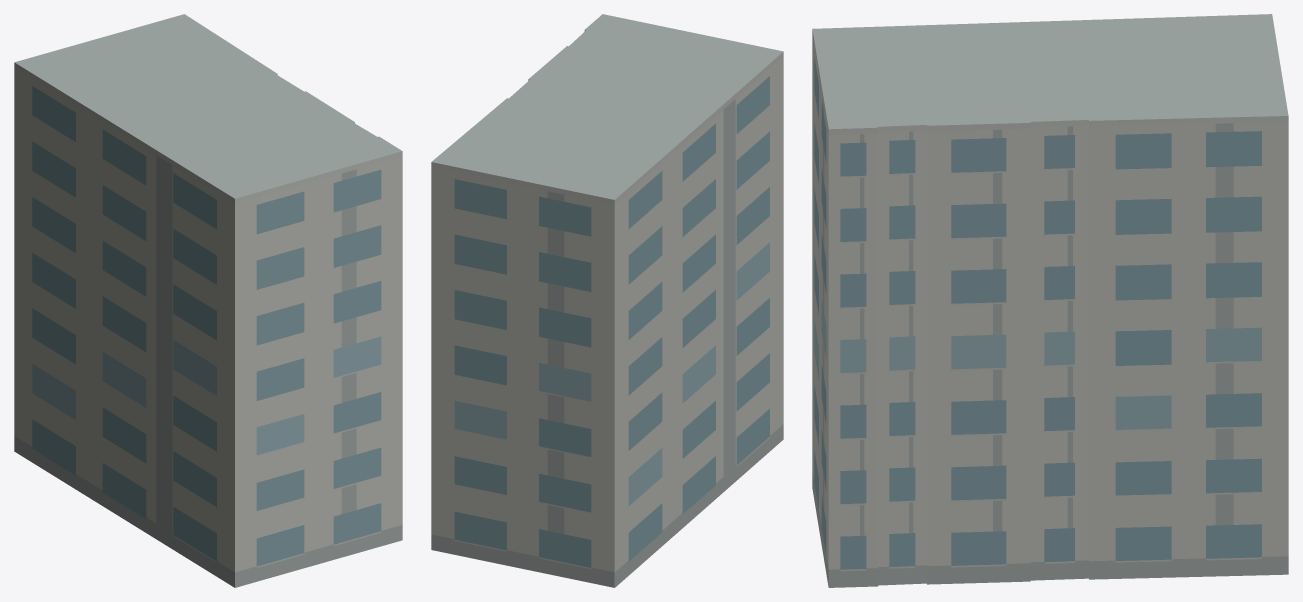
File: survey-upis-32748536.glb
The picture shows the model from 3 angles, left to right: view 1: azimuth 30°, elevation 25°; view 2: azimuth 150°, elevation 25°; view 3: azimuth 270°, elevation 25°; orthographic projection. The views are drawn at different scales.
Parts seen in each view (by area): view 1: survey-upis-32748536.tmp; view 2: survey-upis-32748536.tmp; view 3: survey-upis-32748536.tmp.
Boxes of the visible parts, x1=… form: survey-upis-32748536.tmp: x1=14, y1=14, x2=402, y2=587; survey-upis-32748536.tmp: x1=431, y1=14, x2=783, y2=587; survey-upis-32748536.tmp: x1=812, y1=14, x2=1288, y2=587.
Bounding box in the file's own units: 9.97 × 18.5 × 17.42.
